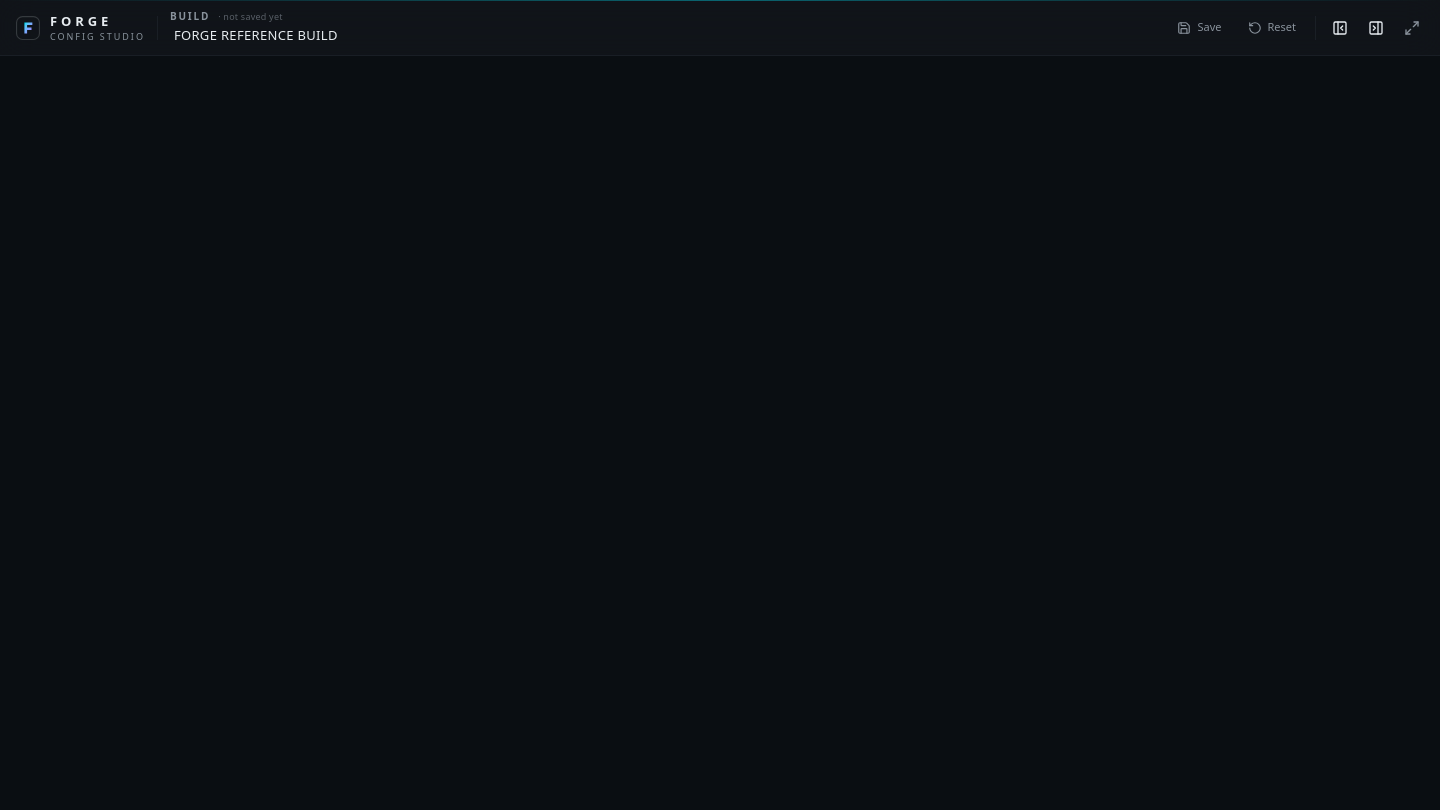
Scenario: top navigation › saves the build, confirms with a toast and persists it
Check: the text "· not saved yet" is shown, box [218, 12, 283, 20]
Click the button with aria-label "Save build": {"x": 1200, "y": 28} [1166, 14, 1232, 42]
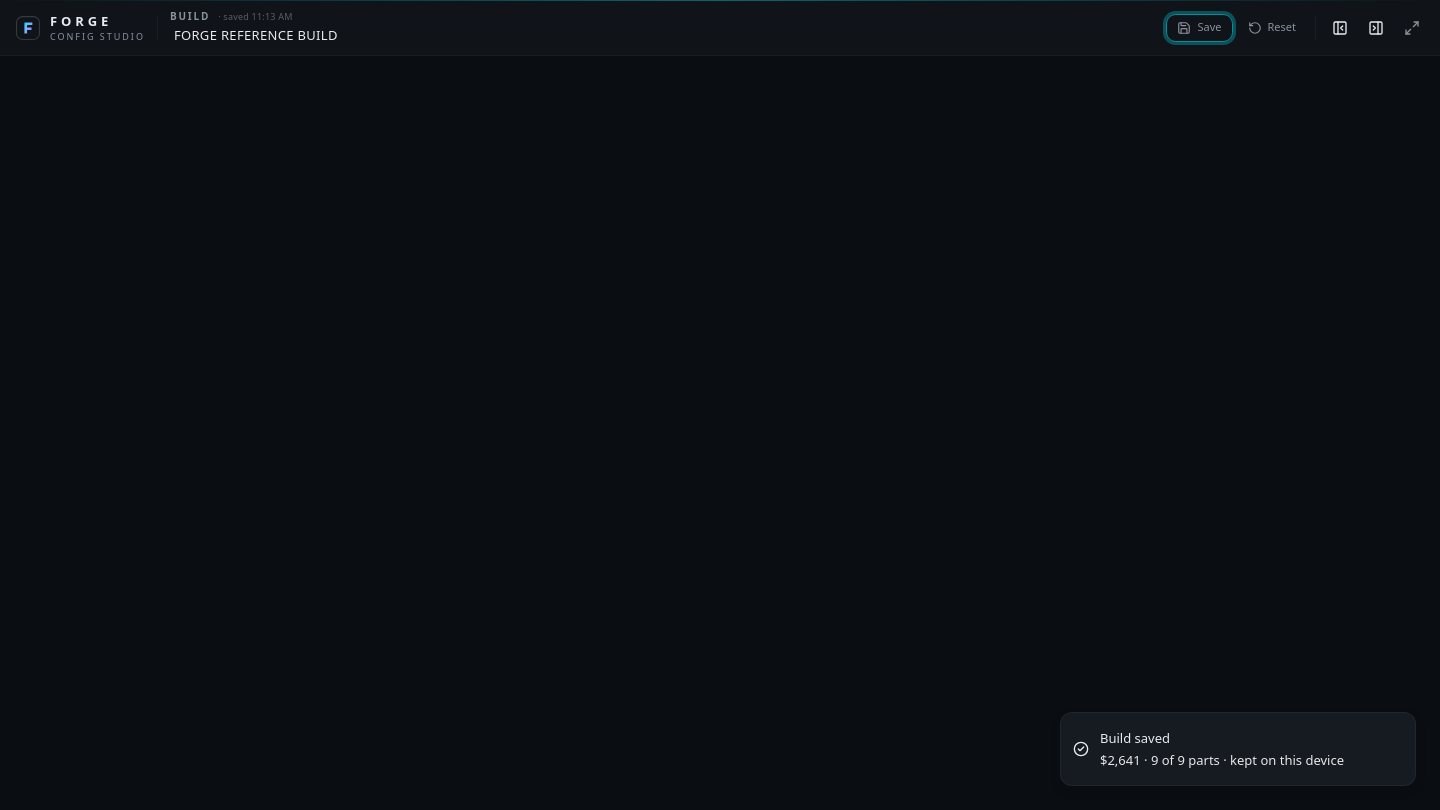
Check: the text "Build saved" is shown, box [1100, 729, 1170, 747]
